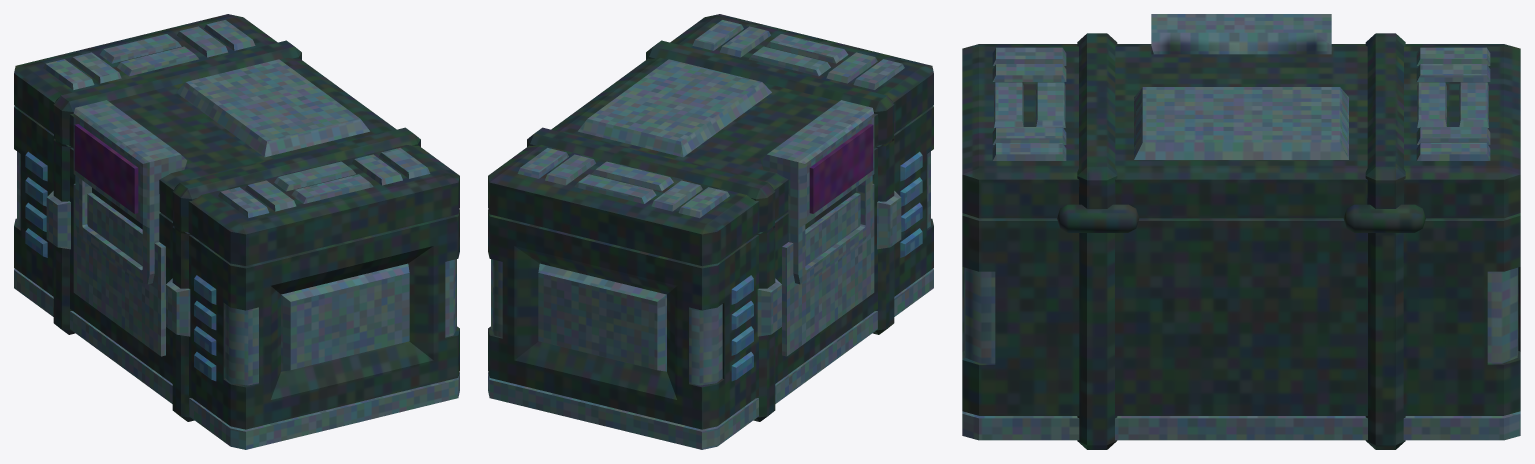
The model's file is Chest.fbx.
3 renders of one model, left to right at view 1: azimuth 30°, elevation 25°; view 2: azimuth 150°, elevation 25°; view 3: azimuth 270°, elevation 25°, orthographic. The views are drawn at different scales.
Parts seen in each view (by area): view 1: Box001, Object001; view 2: Box001, Object001; view 3: Box001, Object001.
Boxes of the visible parts, left/top/right/bottom form: Box001: left=14, top=105, right=459, bottom=449; Object001: left=14, top=14, right=459, bottom=284; Box001: left=488, top=105, right=933, bottom=449; Object001: left=488, top=14, right=933, bottom=284; Box001: left=962, top=204, right=1520, bottom=449; Object001: left=962, top=14, right=1520, bottom=218.
Size of the model in its own units: 45.92 by 41.09 by 70.42.
